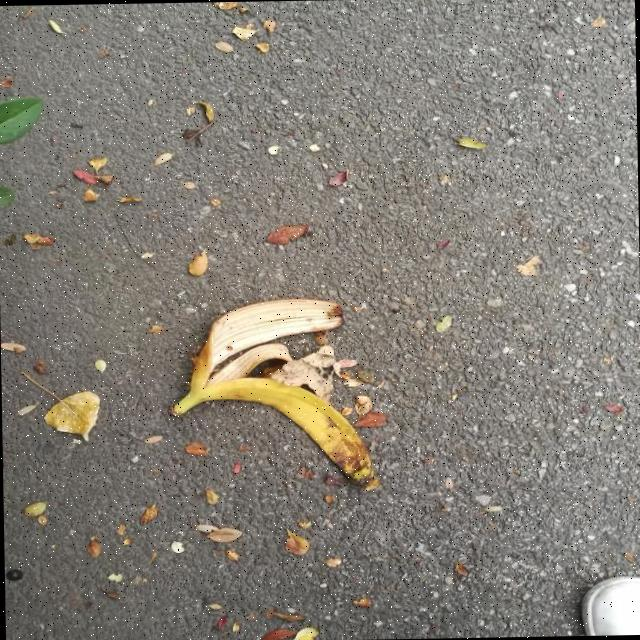banana-peel: (167, 294, 381, 496)
